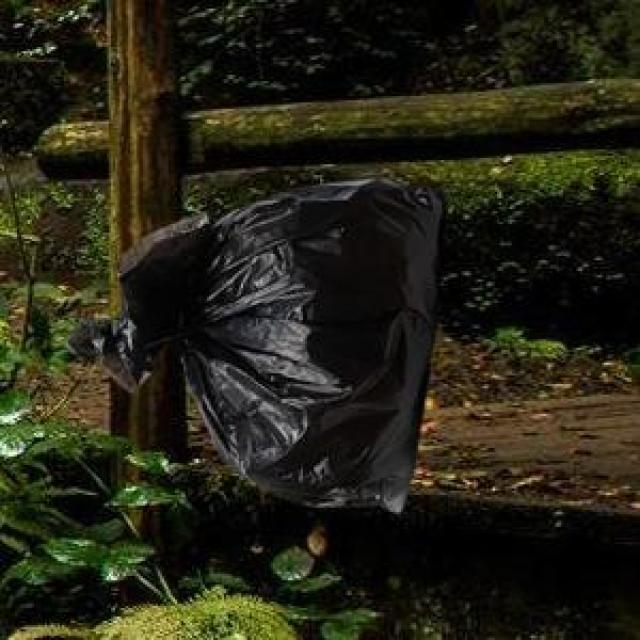waste: (100, 180, 440, 512)
